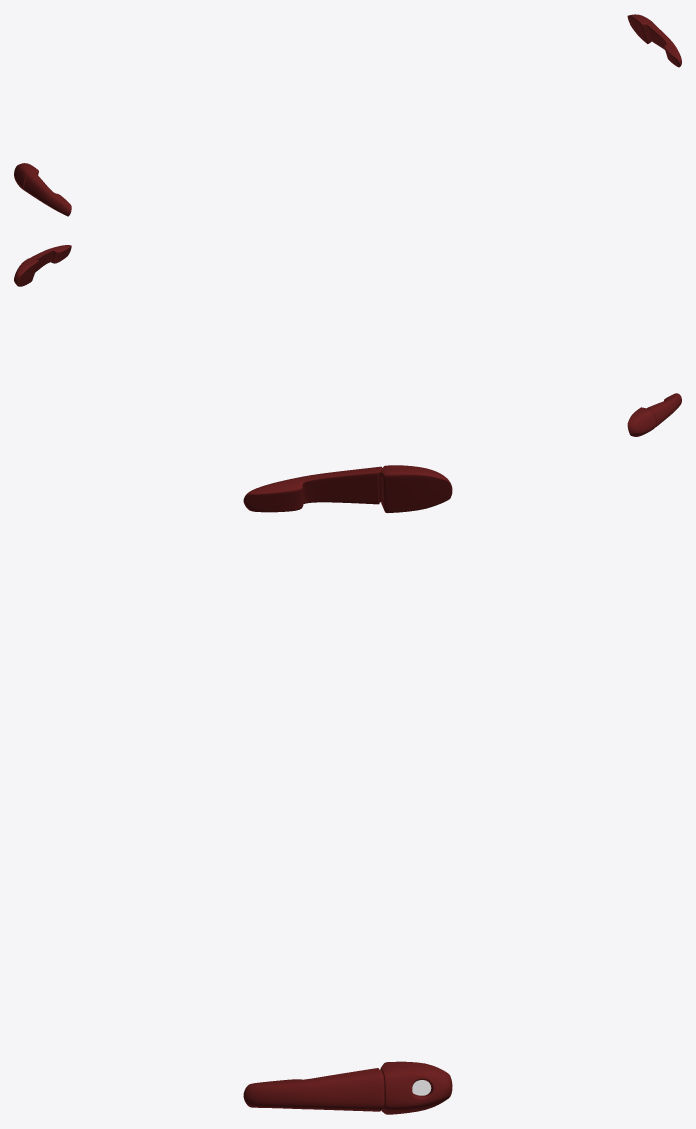
File: Handles.fbx
3 views of the same model, one above another, from view 1: azimuth 30°, elevation 25°; view 2: azimuth 150°, elevation 25°; view 3: azimuth 270°, elevation 25° (orthographic). The views are drawn at different scales.
Visible parts, largest first — view 1: Handles; view 2: Handles; view 3: Handles.
Boxes of the visible parts, bbox=[...] form: Handles: bbox=[14, 14, 681, 216]; Handles: bbox=[14, 245, 681, 436]; Handles: bbox=[243, 465, 452, 1114].
Bounding box in the file's own units: 2425 × 85.23 × 346.
